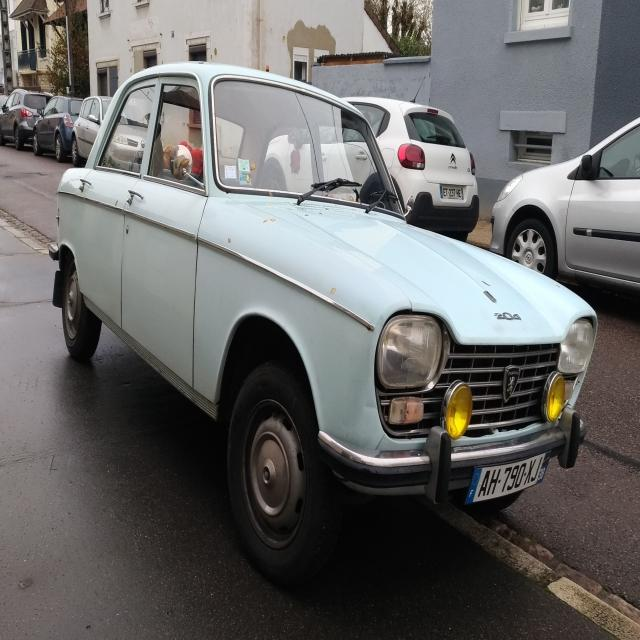plate: (464, 448, 551, 506)
